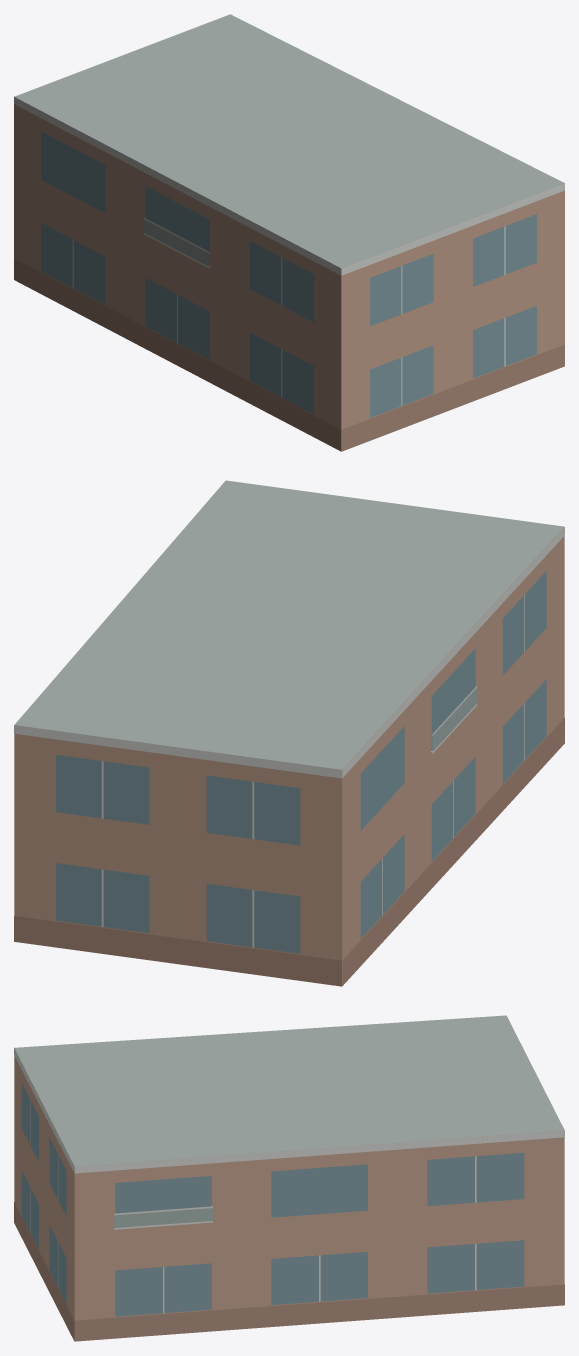
The model's file is survey-upis-32700968.glb.
3 renders of one model, top to bottom at view 1: azimuth 30°, elevation 25°; view 2: azimuth 150°, elevation 25°; view 3: azimuth 270°, elevation 25°, orthographic. The views are drawn at different scales.
Parts seen in each view (by area): view 1: survey-upis-32700968.tmp; view 2: survey-upis-32700968.tmp; view 3: survey-upis-32700968.tmp.
Part boxes in pixels (left/top/right/bottom): survey-upis-32700968.tmp: left=14, top=14, right=564, bottom=451; survey-upis-32700968.tmp: left=14, top=480, right=564, bottom=986; survey-upis-32700968.tmp: left=14, top=1015, right=564, bottom=1341.
Size of the model in its own units: 11.32 by 6.1 by 17.41.
